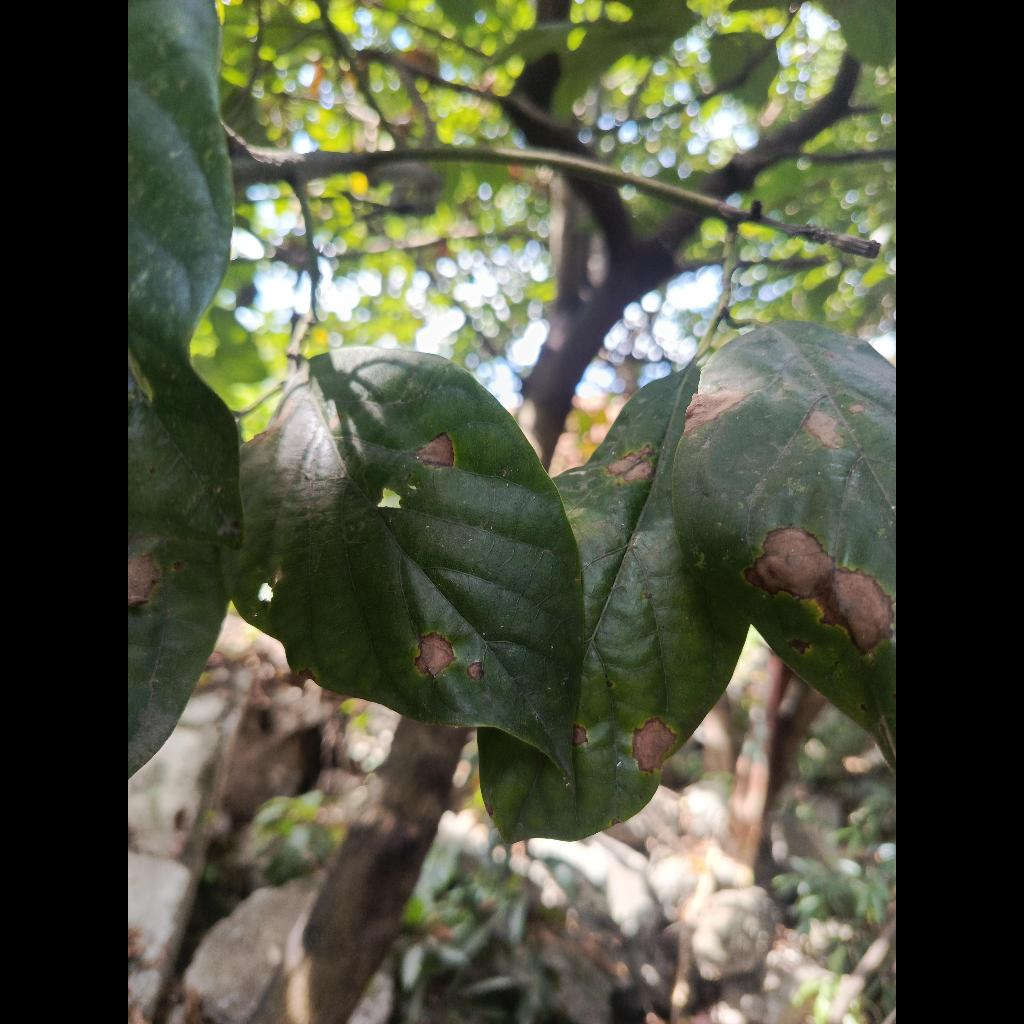Anthracnose: (226, 347, 583, 781)
